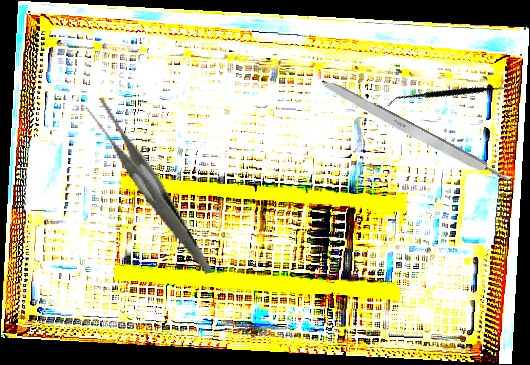Dressing Forceps: (83, 81, 213, 294)
Scalpel Handle: (317, 76, 512, 189)
Spatula Surgical: (386, 32, 517, 156)
